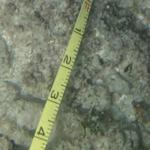dead: (96, 3, 145, 148)
